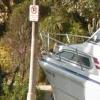Boat: (37, 25, 100, 99)
